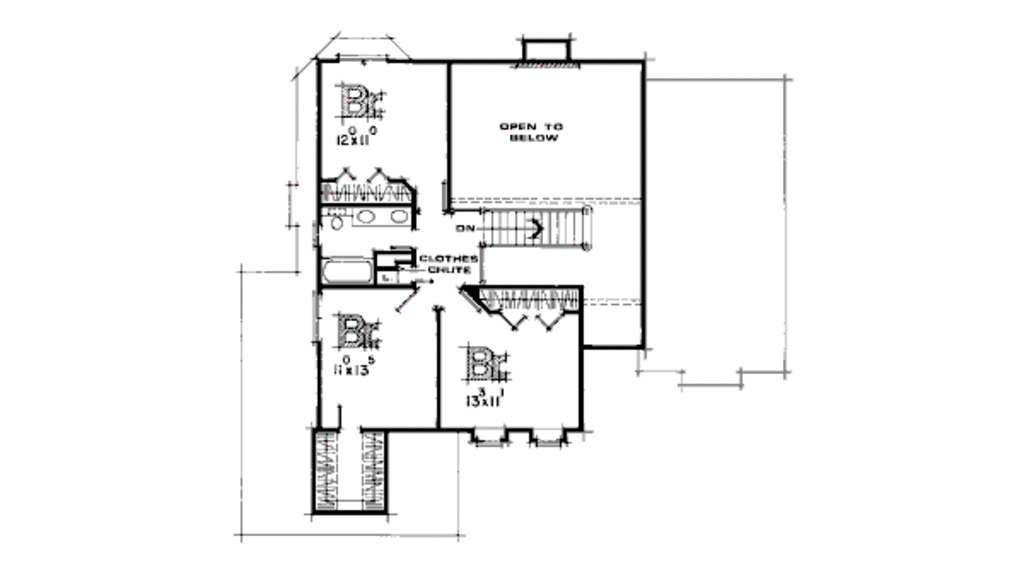large_sink: (319, 206, 347, 233)
small_sink: (346, 202, 416, 229)
stairs: (479, 207, 599, 252)
tub: (321, 257, 379, 291)
window: (468, 437, 506, 449), (534, 436, 568, 449)
